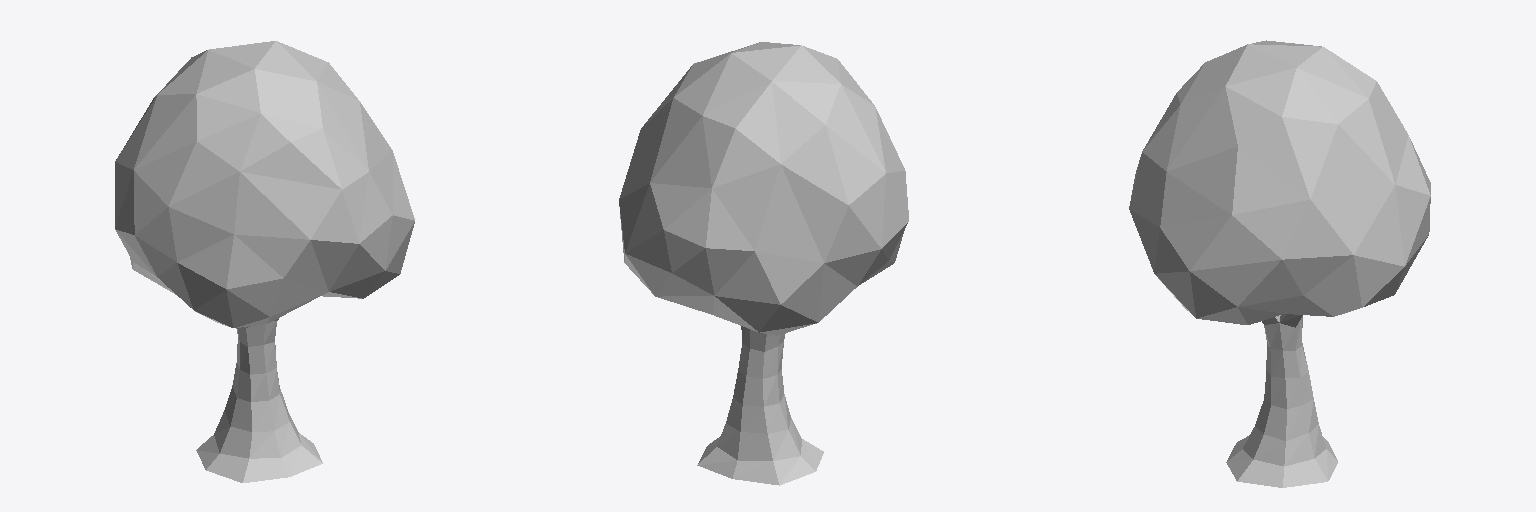
Rendered from small-tree-light.obj.
3 views of the same model, side by side, from view 1: azimuth 30°, elevation 25°; view 2: azimuth 150°, elevation 25°; view 3: azimuth 270°, elevation 25° (orthographic).
Visible parts, largest first — view 1: LowPoly_Tree_01_Plane_Plane.000; view 2: LowPoly_Tree_01_Plane_Plane.000; view 3: LowPoly_Tree_01_Plane_Plane.000.
Boxes of the visible parts, x1,y1,x2,y2 form: LowPoly_Tree_01_Plane_Plane.000: [115, 41, 414, 482]; LowPoly_Tree_01_Plane_Plane.000: [619, 42, 908, 485]; LowPoly_Tree_01_Plane_Plane.000: [1129, 40, 1430, 487].
Size of the model in its own units: 1.35 by 2 by 1.34.